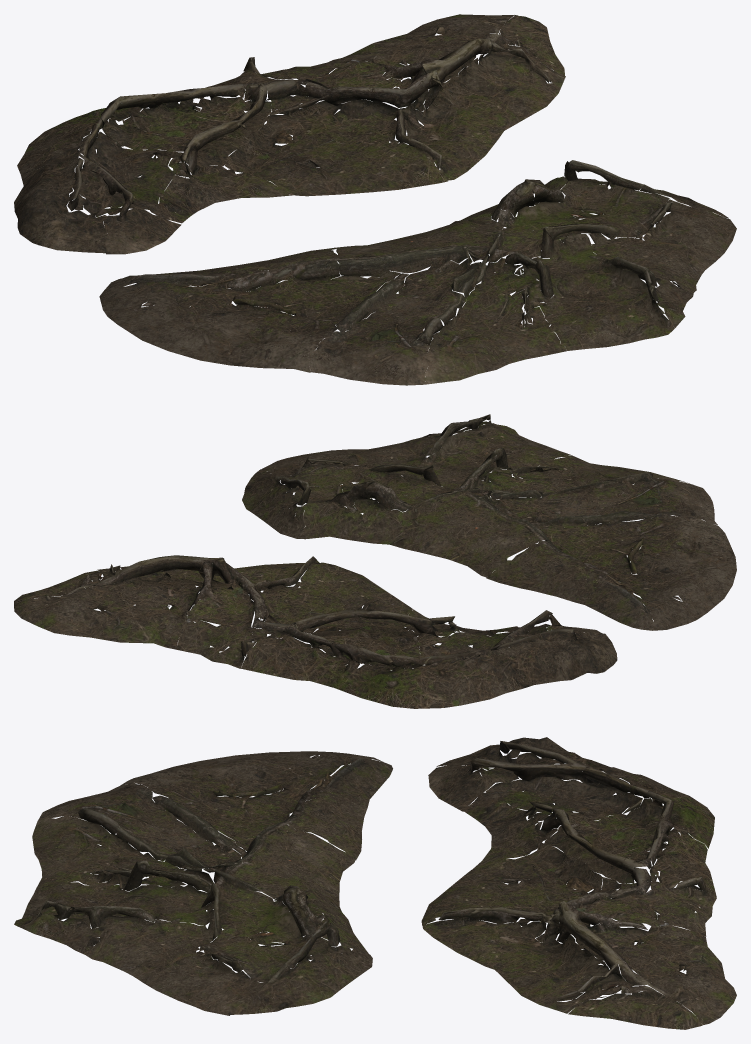
File: pine_roots-game.glb
The picture shows the model from 3 angles, top to bottom: view 1: azimuth 30°, elevation 25°; view 2: azimuth 150°, elevation 25°; view 3: azimuth 270°, elevation 25°; orthographic projection. The views are drawn at different scales.
Parts seen in each view (by area): view 1: pine_roots_b, pine_roots_a; view 2: pine_roots_b, pine_roots_a; view 3: pine_roots_b, pine_roots_a.
Boxes of the visible parts, box(x1,y1,x2,y2) form: pine_roots_b: box(99, 160, 736, 385); pine_roots_a: box(14, 14, 565, 254); pine_roots_b: box(242, 414, 736, 630); pine_roots_a: box(14, 555, 617, 708); pine_roots_b: box(14, 751, 392, 1015); pine_roots_a: box(421, 737, 736, 1029).
Size of the model in its own units: 1.77 by 0.1574 by 1.89.
2 materials, 2 textured.
